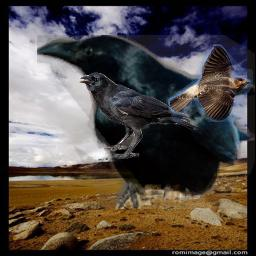Crow: (37, 35, 255, 209), (79, 72, 198, 159)
Swallow: (168, 44, 253, 122)
